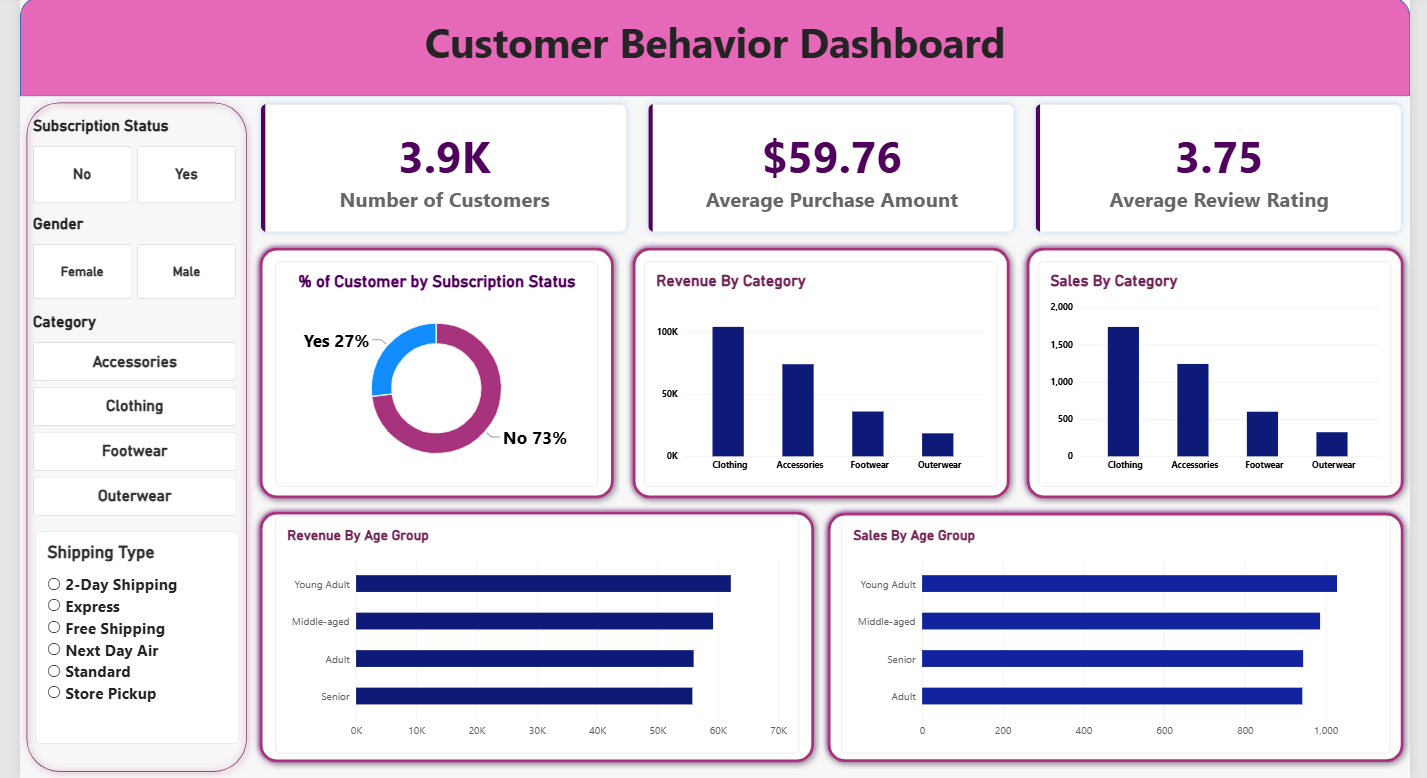

This screenshot's page, from the dashboard's own definition file:
{"tool":"powerbi","page":{"name":"Page 1","canvas":[1920,1080],"ordinal":0},"visuals":[{"type":"cardVisual","fields":{"Data":["customer.Number of Customers","customer.Average Purchase Amount","customer.Average Review Rating"]},"box":[322.3,137.4,1597.7,199],"z":0},{"type":"shape","box":[0,0,1920,137.4],"z":1000},{"type":"textbox","box":[0,25,1920,87.4],"z":2000},{"type":"shape","box":[322.3,336.4,507.3,364.6],"z":3000},{"type":"donutChart","title":"% of Customer by Subscription Status","fields":{"Category":["customer.subscription_status"],"Y":["CountNonNull(customer.customer_id)"]},"box":[352.3,364.6,445.7,311.8],"z":4000},{"type":"shape","box":[836.7,336.4,539,364.6],"z":5000},{"type":"shape","box":[1381,336.4,539,364.6],"z":6000},{"type":"clusteredColumnChart","title":"Revenue By Category","fields":{"Category":["customer.category"],"Y":["Sum(customer.purchase_amount)"]},"box":[861.4,364.6,487.9,311.8],"z":7000},{"type":"clusteredColumnChart","title":"Sales By Category","fields":{"Category":["customer.category"],"Y":["CountNonNull(customer.customer_id)"]},"box":[1405.7,364.6,487.9,311.8],"z":8000},{"type":"shape","box":[0,137.4,322.3,942.4],"z":9000},{"type":"advancedSlicerVisual","title":"Subscription Status","fields":{"Values":["customer.subscription_status"]},"box":[17.6,165.6,281.8,119.8],"z":10000},{"type":"advancedSlicerVisual","title":"Gender","fields":{"Values":["customer.gender"]},"box":[17.6,301.2,281.8,116.3],"z":10001},{"type":"advancedSlicerVisual","title":"Category","fields":{"Values":["customer.category"]},"box":[17.6,436.8,281.8,280.1],"z":10002},{"type":"listSlicer","title":"Shipping Type","fields":{"Values":["customer.shipping_type"]},"box":[21.1,738.1,281.8,294.2],"z":10003},{"type":"shape","box":[322.3,701.1,783.9,364.6],"z":10004},{"type":"barChart","title":"Revenue By Age Group","fields":{"Category":["customer.age_group"],"Y":["Sum(customer.purchase_amount)"]},"box":[352.3,716.9,724,327.6],"z":10005},{"type":"shape","box":[1106.2,702.8,813.8,362.9],"z":10006},{"type":"barChart","title":"Sales By Age Group","fields":{"Category":["customer.age_group"],"Y":["CountNonNull(customer.customer_id)"]},"box":[1134.4,716.9,759.2,327.6],"z":10007}]}

Visuals, with their boxes in screenshot pixels (x1, y1, x2, y2):
cardVisual - customer.Number of Customers x customer.Average Purchase Amount: pyautogui.locateOnScreen(256, 94, 1426, 240)
shape: pyautogui.locateOnScreen(19, 0, 1426, 94)
textbox: pyautogui.locateOnScreen(19, 11, 1426, 75)
shape: pyautogui.locateOnScreen(256, 240, 629, 508)
"% of Customer by Subscription Status" donutChart: pyautogui.locateOnScreen(278, 261, 605, 490)
shape: pyautogui.locateOnScreen(634, 240, 1030, 508)
shape: pyautogui.locateOnScreen(1034, 240, 1426, 508)
"Revenue By Category" clusteredColumnChart: pyautogui.locateOnScreen(652, 261, 1011, 490)
"Sales By Category" clusteredColumnChart: pyautogui.locateOnScreen(1052, 261, 1411, 490)
shape: pyautogui.locateOnScreen(19, 94, 256, 777)
"Subscription Status" advancedSlicerVisual: pyautogui.locateOnScreen(32, 114, 239, 202)
"Gender" advancedSlicerVisual: pyautogui.locateOnScreen(32, 214, 239, 300)
"Category" advancedSlicerVisual: pyautogui.locateOnScreen(32, 314, 239, 520)
"Shipping Type" listSlicer: pyautogui.locateOnScreen(34, 535, 241, 752)
shape: pyautogui.locateOnScreen(256, 508, 832, 776)
"Revenue By Age Group" barChart: pyautogui.locateOnScreen(278, 520, 810, 761)
shape: pyautogui.locateOnScreen(832, 509, 1426, 776)
"Sales By Age Group" barChart: pyautogui.locateOnScreen(853, 520, 1411, 761)
